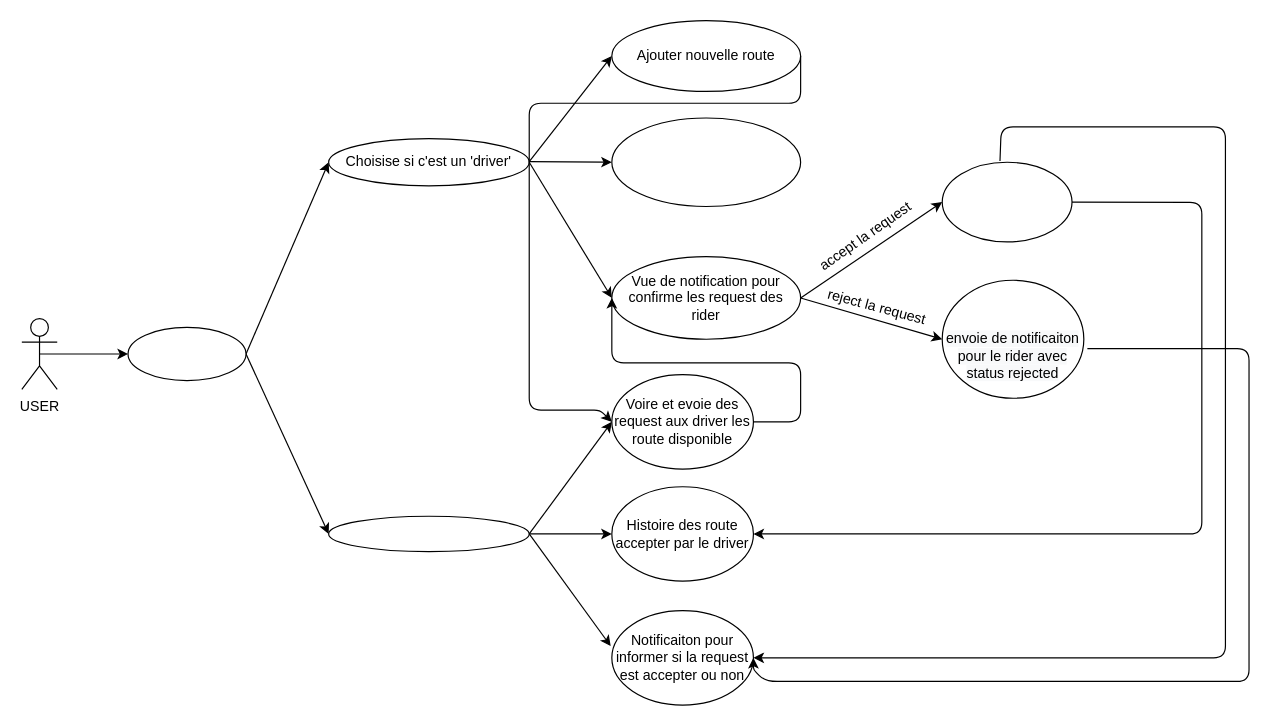
Image size: 1279x726. Some labels were removed from this diagram. Each missing label, with the centre of its shape:
"Choisise si c'est un 'rider'" belongs at [428,533].
"envoie de notificaiton pour le rider avec status accepter" belongs at [1006,201].
"Login" belongs at [186,353].
"Voire c'est propre route et posibiliter de les enlever" belongs at [706,161].
